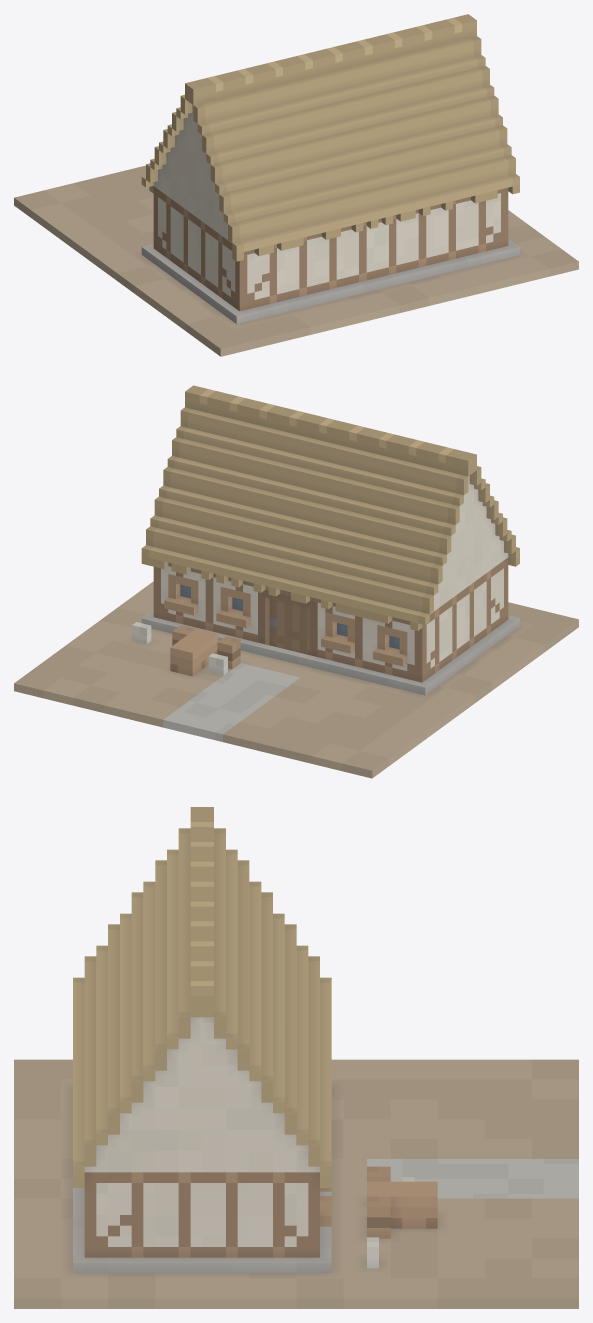
File: warehouse.l1.glb
3 views of the same model, one above another, from view 1: azimuth 30°, elevation 25°; view 2: azimuth 150°, elevation 25°; view 3: azimuth 270°, elevation 25° (orthographic). The views are drawn at different scales.
Parts seen in each view (by area): view 1: warehouse; view 2: warehouse; view 3: warehouse.
Part boxes in pixels (bbox=[...]): warehouse: bbox=[14, 14, 578, 356]; warehouse: bbox=[14, 385, 578, 778]; warehouse: bbox=[14, 807, 578, 1308].
Size of the model in its own units: 6 by 3.38 by 6.
